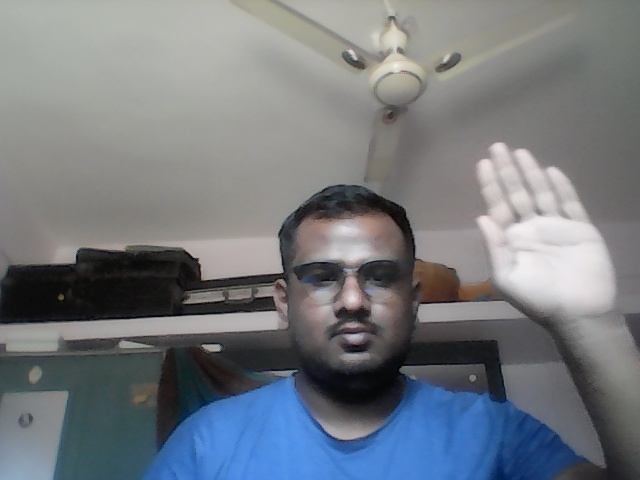Hello: (472, 137, 623, 324)
